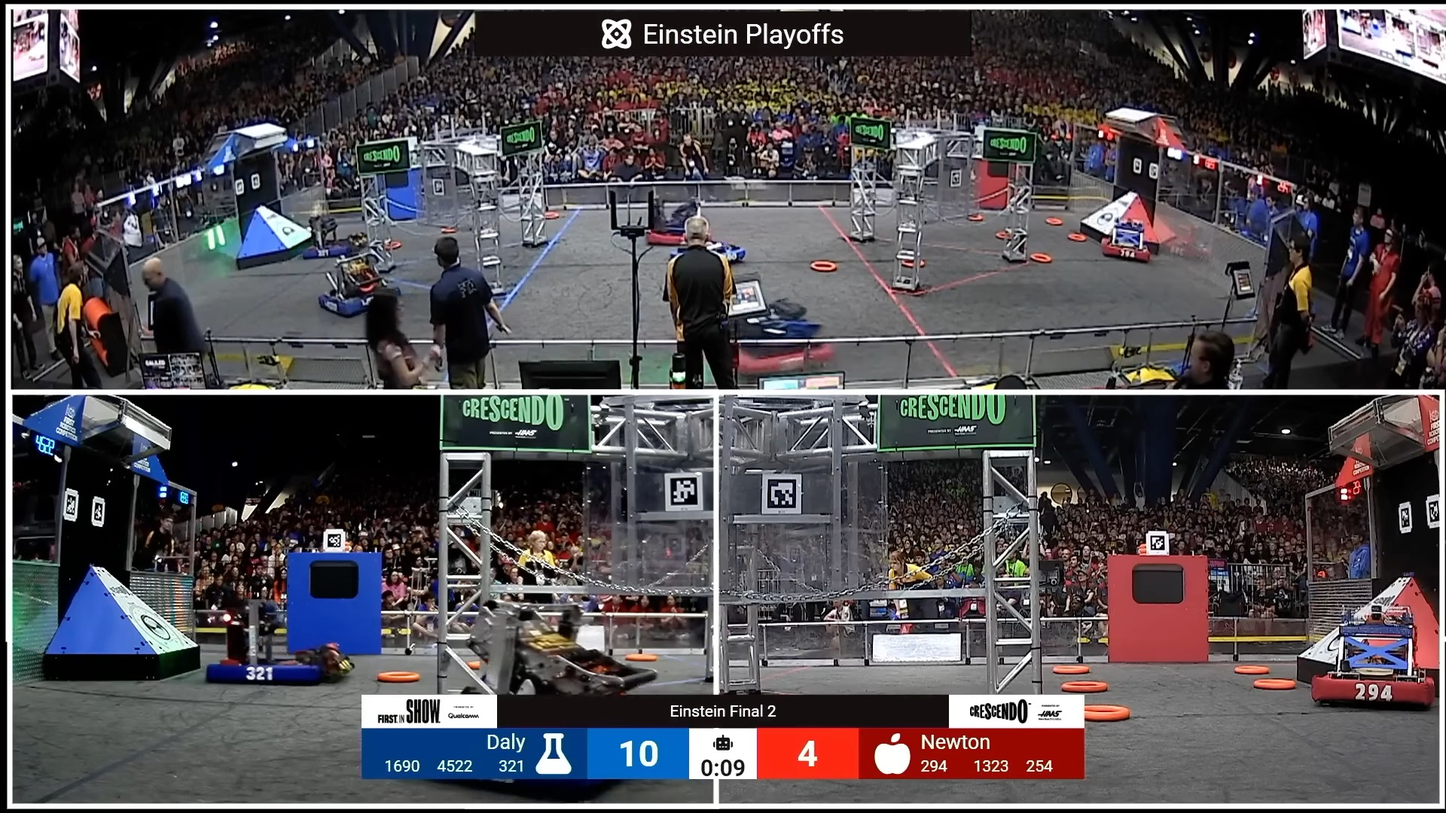bumpers: (719, 315, 844, 383), (205, 651, 359, 699), (1307, 667, 1440, 710), (1083, 219, 1181, 268), (667, 240, 747, 270), (315, 290, 393, 317), (301, 236, 367, 261), (649, 226, 708, 248)
